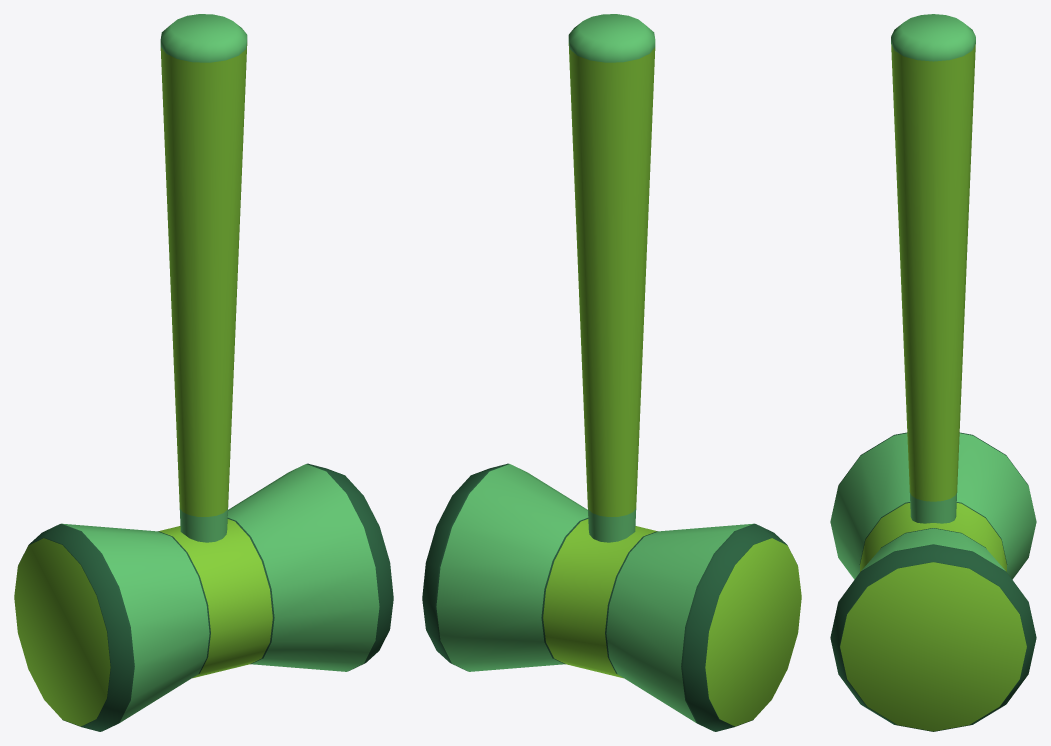
File: hammer-v1.glb
3 renders of one model, left to right at view 1: azimuth 30°, elevation 25°; view 2: azimuth 150°, elevation 25°; view 3: azimuth 270°, elevation 25°, orthographic. The views are drawn at different scales.
Parts seen in each view (by area): view 1: Object_115; view 2: Object_115; view 3: Object_115.
Boxes of the visible parts, bbox=[...] form: Object_115: bbox=[14, 14, 393, 731]; Object_115: bbox=[422, 14, 801, 731]; Object_115: bbox=[830, 14, 1036, 731].
Size of the model in its own units: 2.14 by 4.81 by 1.39.
1 material, 1 textured.
